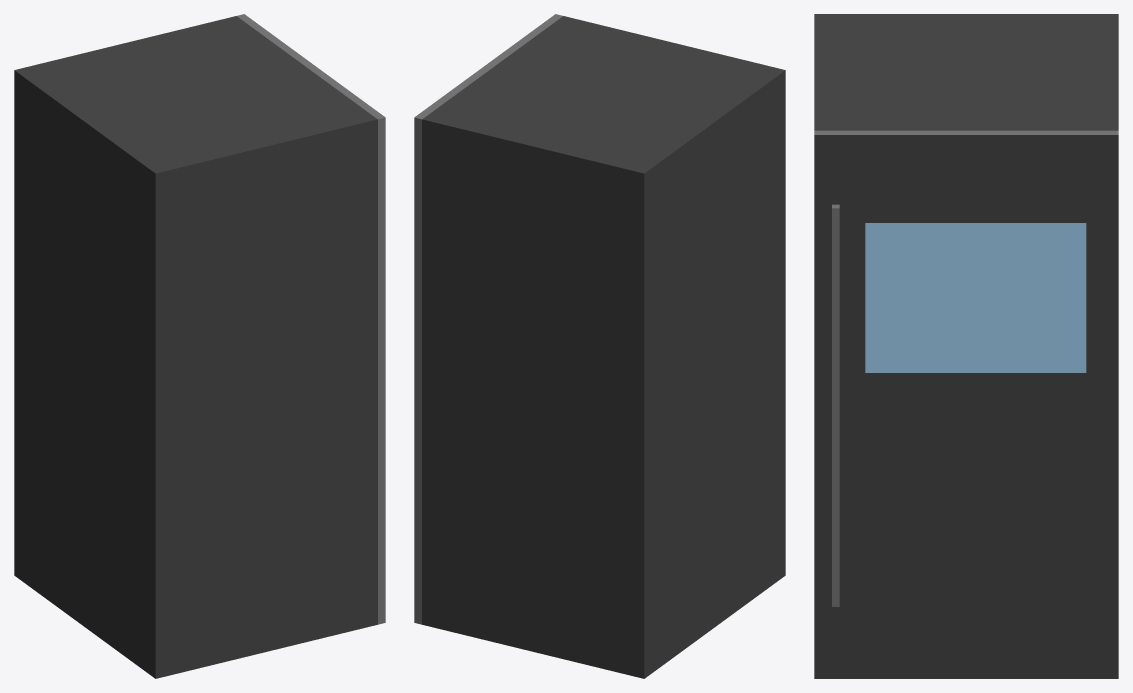
The model's file is FridgeB.fbx.
3 views of the same model, side by side, from view 1: azimuth 30°, elevation 25°; view 2: azimuth 150°, elevation 25°; view 3: azimuth 270°, elevation 25° (orthographic). The views are drawn at different scales.
Parts seen in each view (by area): view 1: FridgeB.001; view 2: FridgeB.001; view 3: FridgeB.001.
Boxes of the visible parts, left/top/right/bottom form: FridgeB.001: left=14, top=14, right=385, bottom=678; FridgeB.001: left=414, top=14, right=785, bottom=678; FridgeB.001: left=814, top=14, right=1118, bottom=678.
Bounding box in the file's own units: 119 × 243 × 123.
